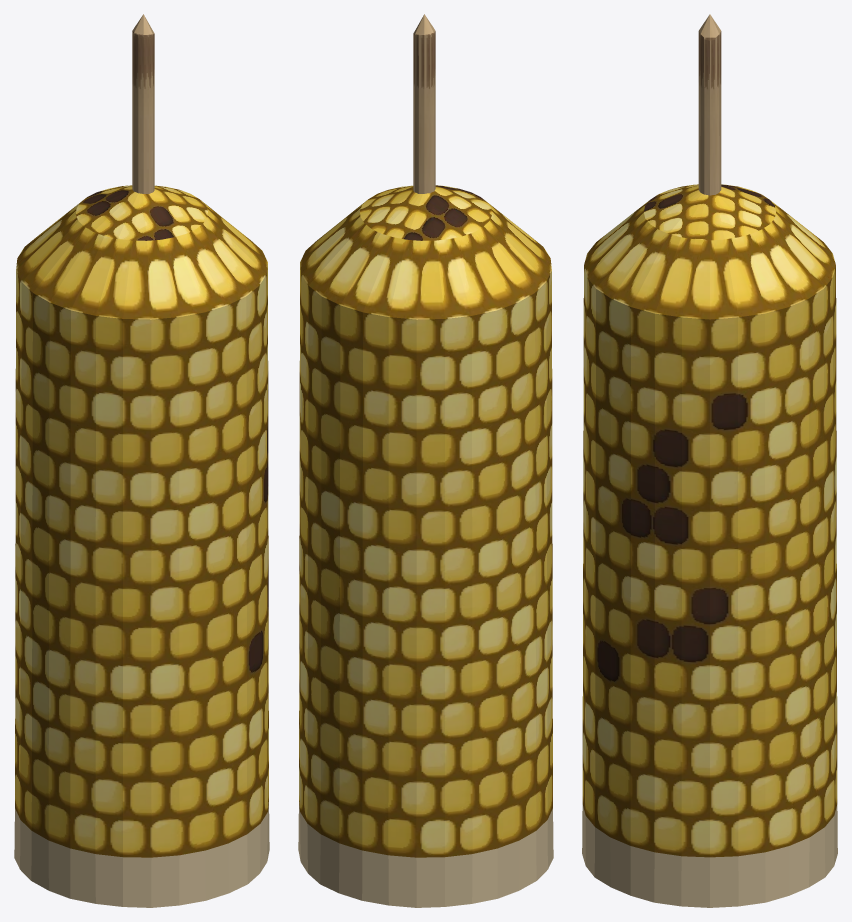
The model's file is grilled_corn.glb.
3 renders of one model, left to right at view 1: azimuth 30°, elevation 25°; view 2: azimuth 150°, elevation 25°; view 3: azimuth 270°, elevation 25°, orthographic.
Visible parts, largest first — view 1: grilled_corn_body, grilled_corn_skewer; view 2: grilled_corn_body, grilled_corn_skewer; view 3: grilled_corn_body, grilled_corn_skewer.
Boxes of the visible parts, x1,y1,x2,y2 form: grilled_corn_body: (14,185,269,907); grilled_corn_skewer: (132,14,154,193); grilled_corn_body: (298,185,553,907); grilled_corn_skewer: (413,14,435,193); grilled_corn_body: (582,184,837,907); grilled_corn_skewer: (698,14,721,195).
Size of the model in its own units: 0.0693 by 0.2515 by 0.0693.
3 materials, 3 textured.
